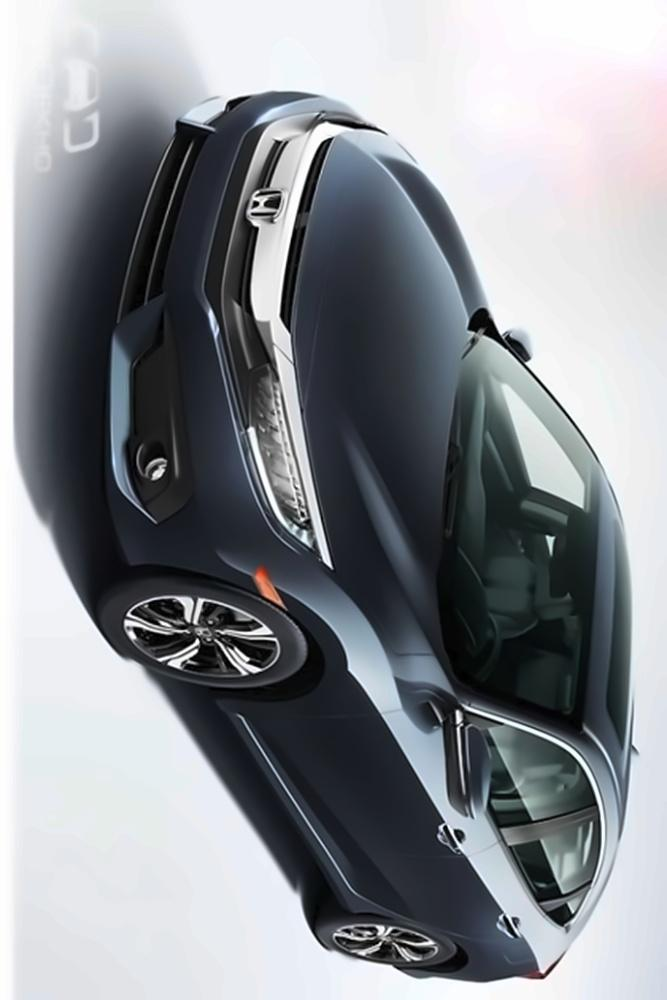Car hood: (285, 122, 480, 655)
Fender - -F-L-: (118, 553, 486, 711)
Front bumper: (102, 89, 364, 584)
Headlight - -L-: (242, 340, 332, 569)
Passenger-s door - -F-L-: (207, 655, 625, 857)
Passenger-s door - -R-L-: (229, 794, 649, 941)
Side bumper - -L-: (204, 699, 366, 939)
Side mirror - -L-: (412, 692, 505, 819)
